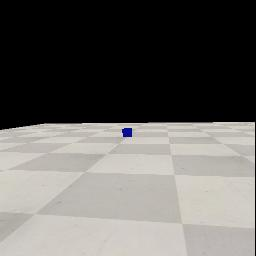box: (122, 128, 132, 137)
